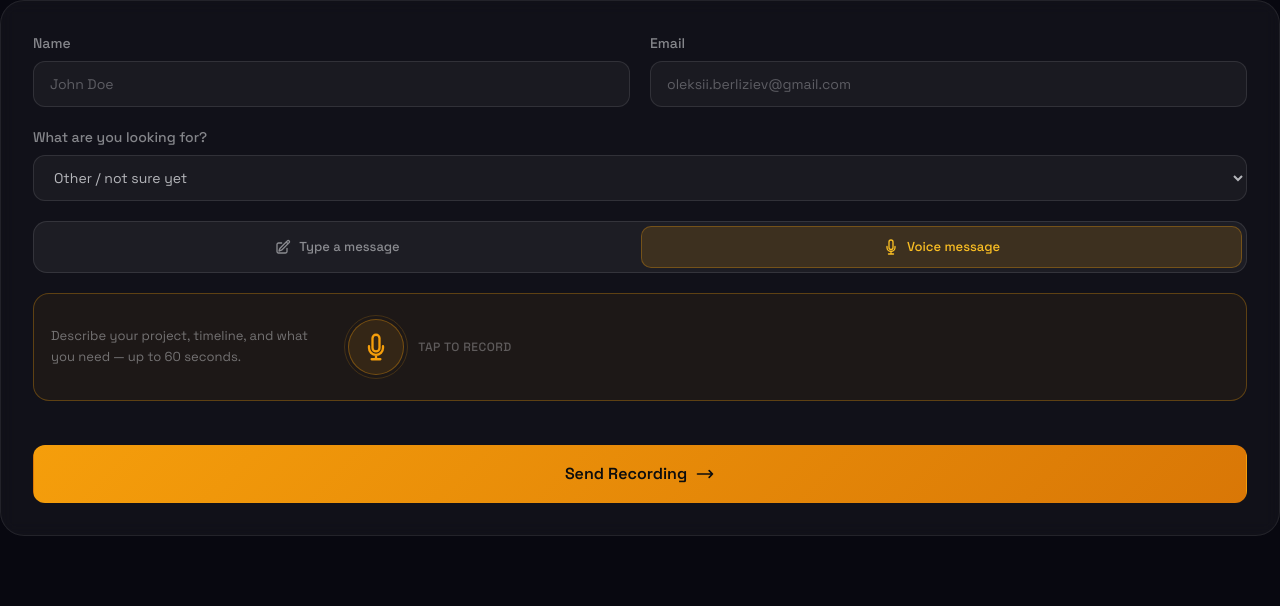
ContactForm › case 9: Text→Voice→Text retains typed message
Click the button "Type a message". click: [338, 247]
box: [38,226,637,268]
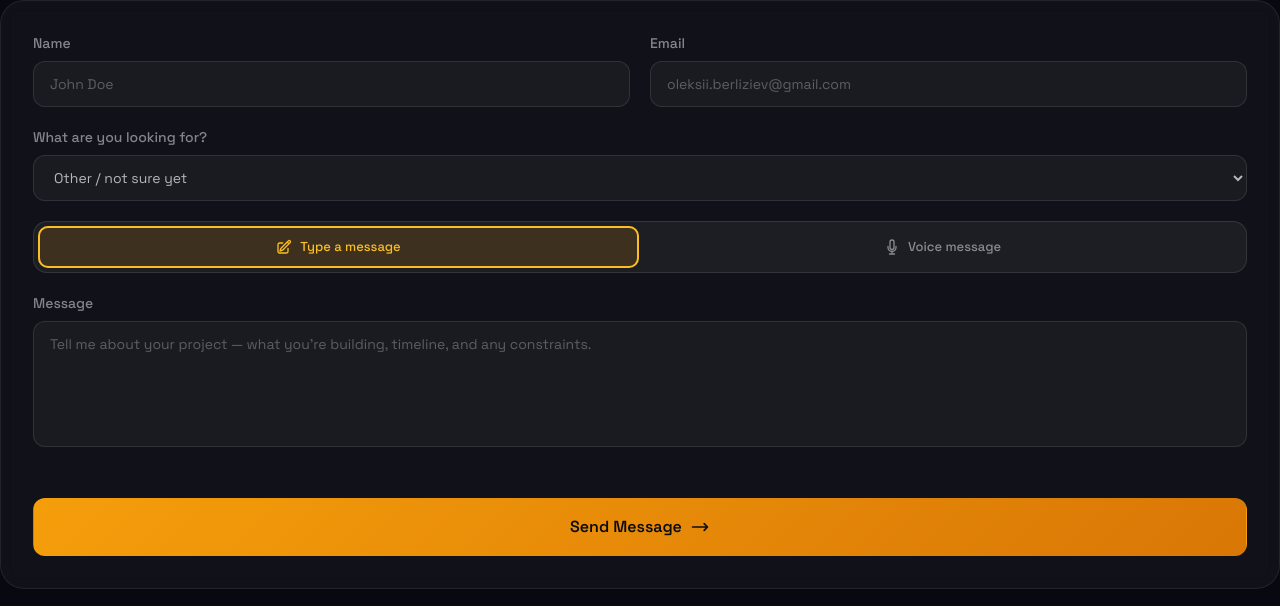
Type "My project" into the text box labelled "Message". click: [640, 384]
box: [33,320,1247,446]
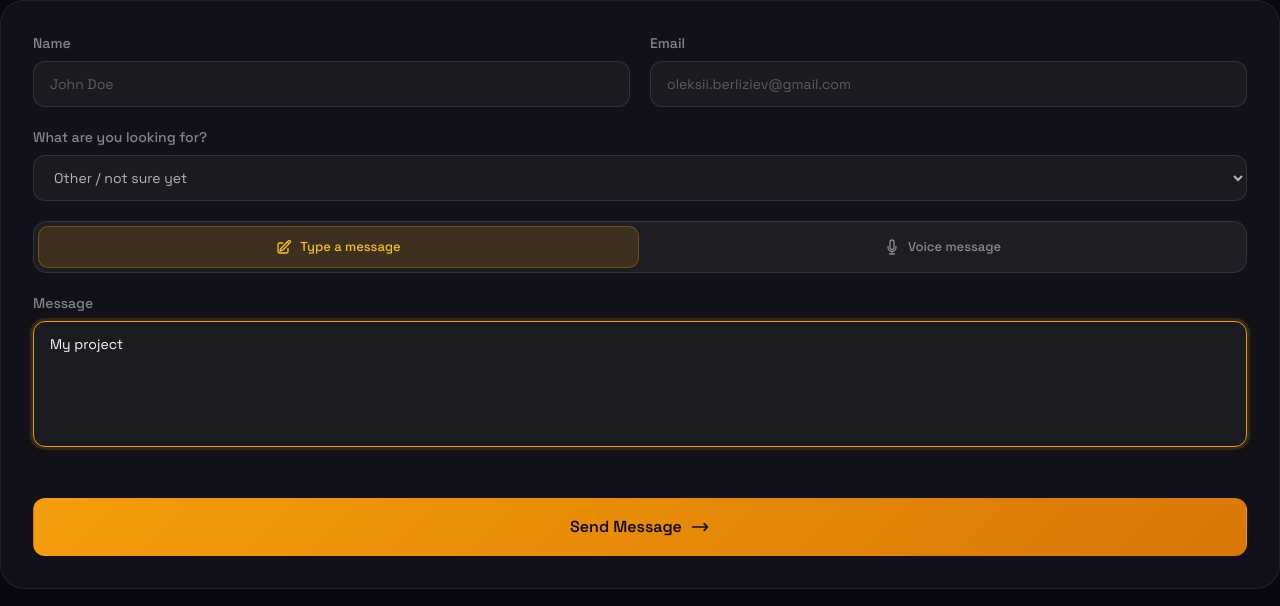
Click the button "Voice message". click: [942, 247]
box: [643,226,1242,268]
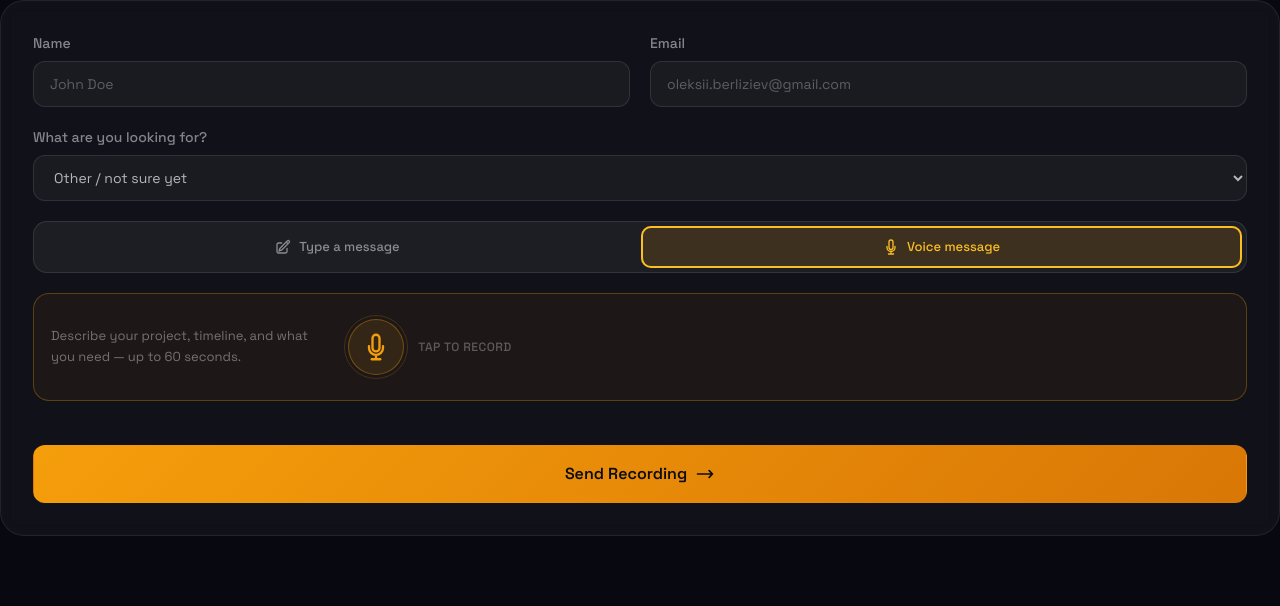
Click the button "Type a message". click: [338, 247]
box: [38,226,637,268]
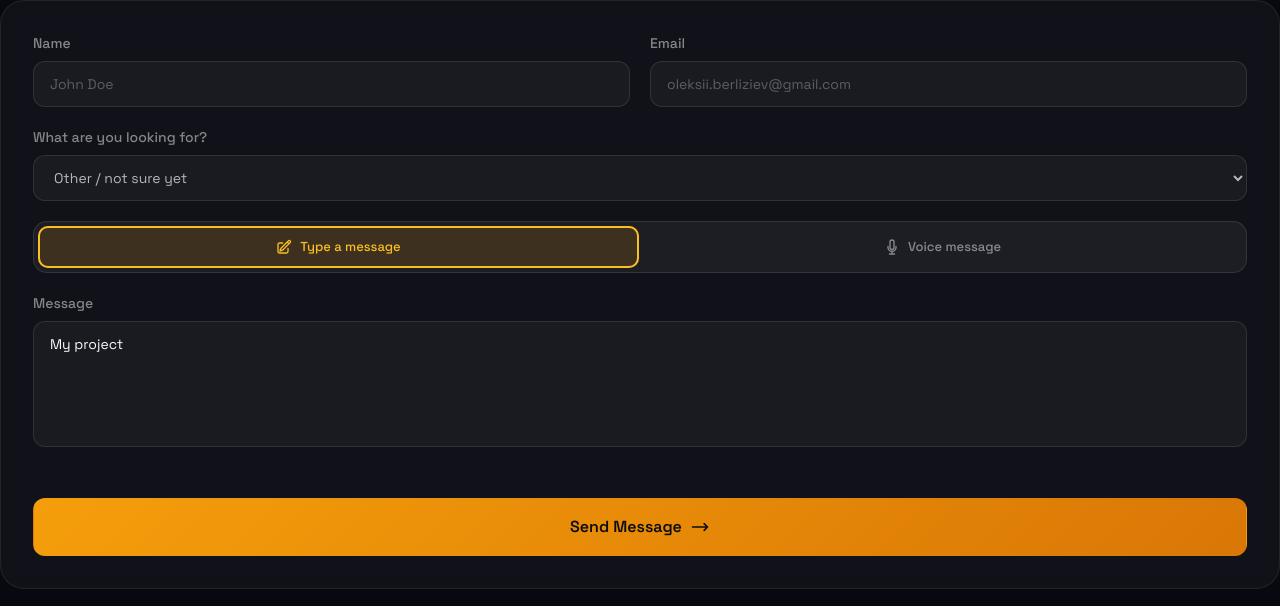
Expected: the text box labelled "Message" holds "My project", [33,320,1247,446]
